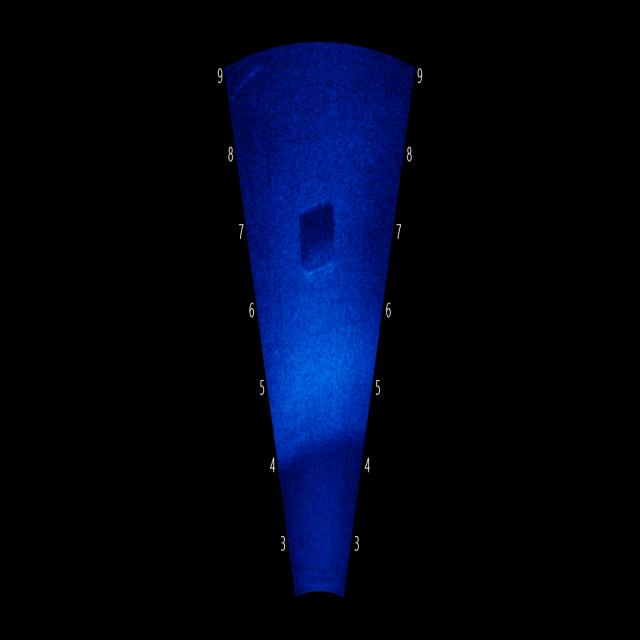square: (290, 182, 343, 282)
